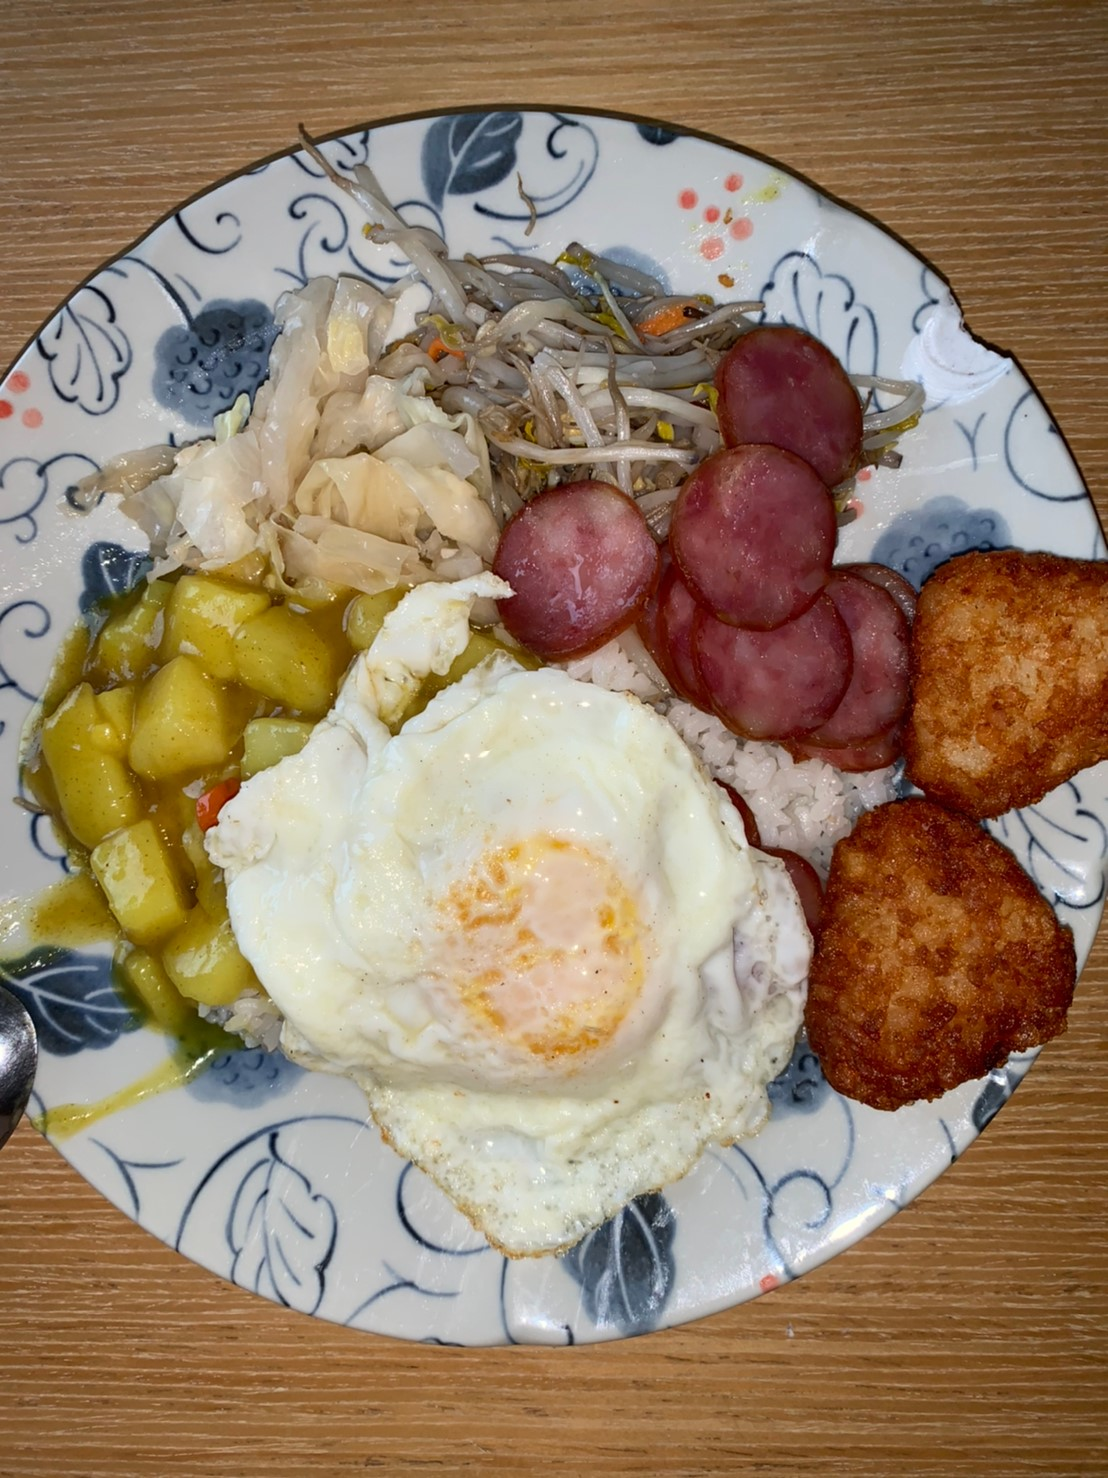chinese_cabbage: (182, 290, 466, 621)
chinese_sausage: (517, 325, 921, 748)
curry: (37, 573, 253, 1036)
fried_eggs: (236, 621, 796, 1237)
mung_bean_sprouts: (446, 267, 713, 479)
rice: (736, 748, 867, 867)
triangle_hash_brown: (818, 543, 1108, 1113)
